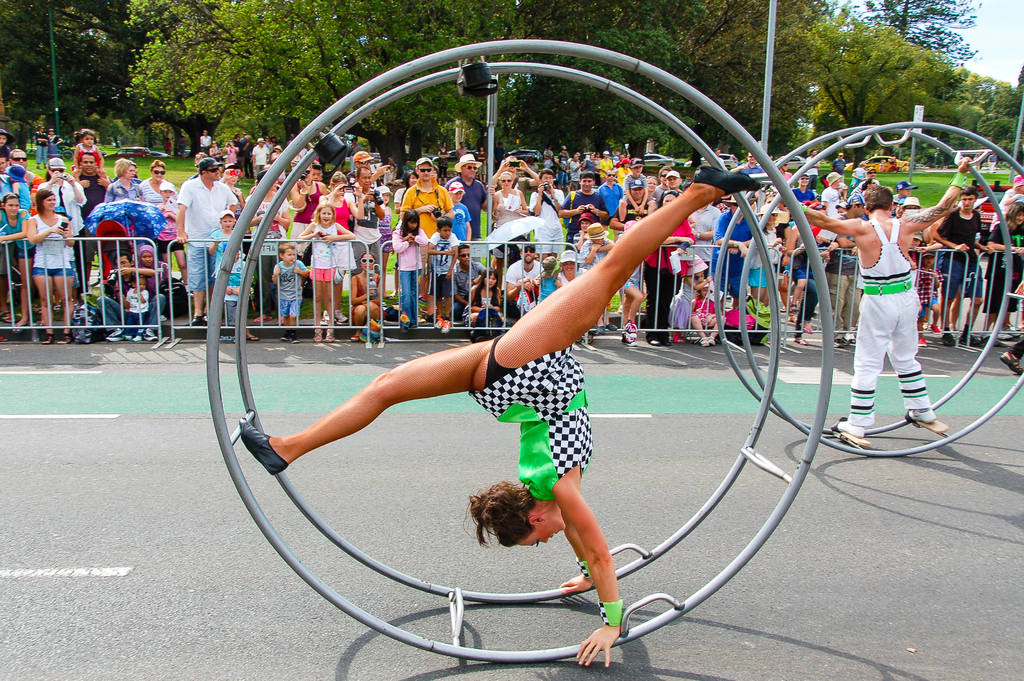Person: (241, 165, 761, 664), (0, 126, 1024, 374), (778, 157, 971, 439)
